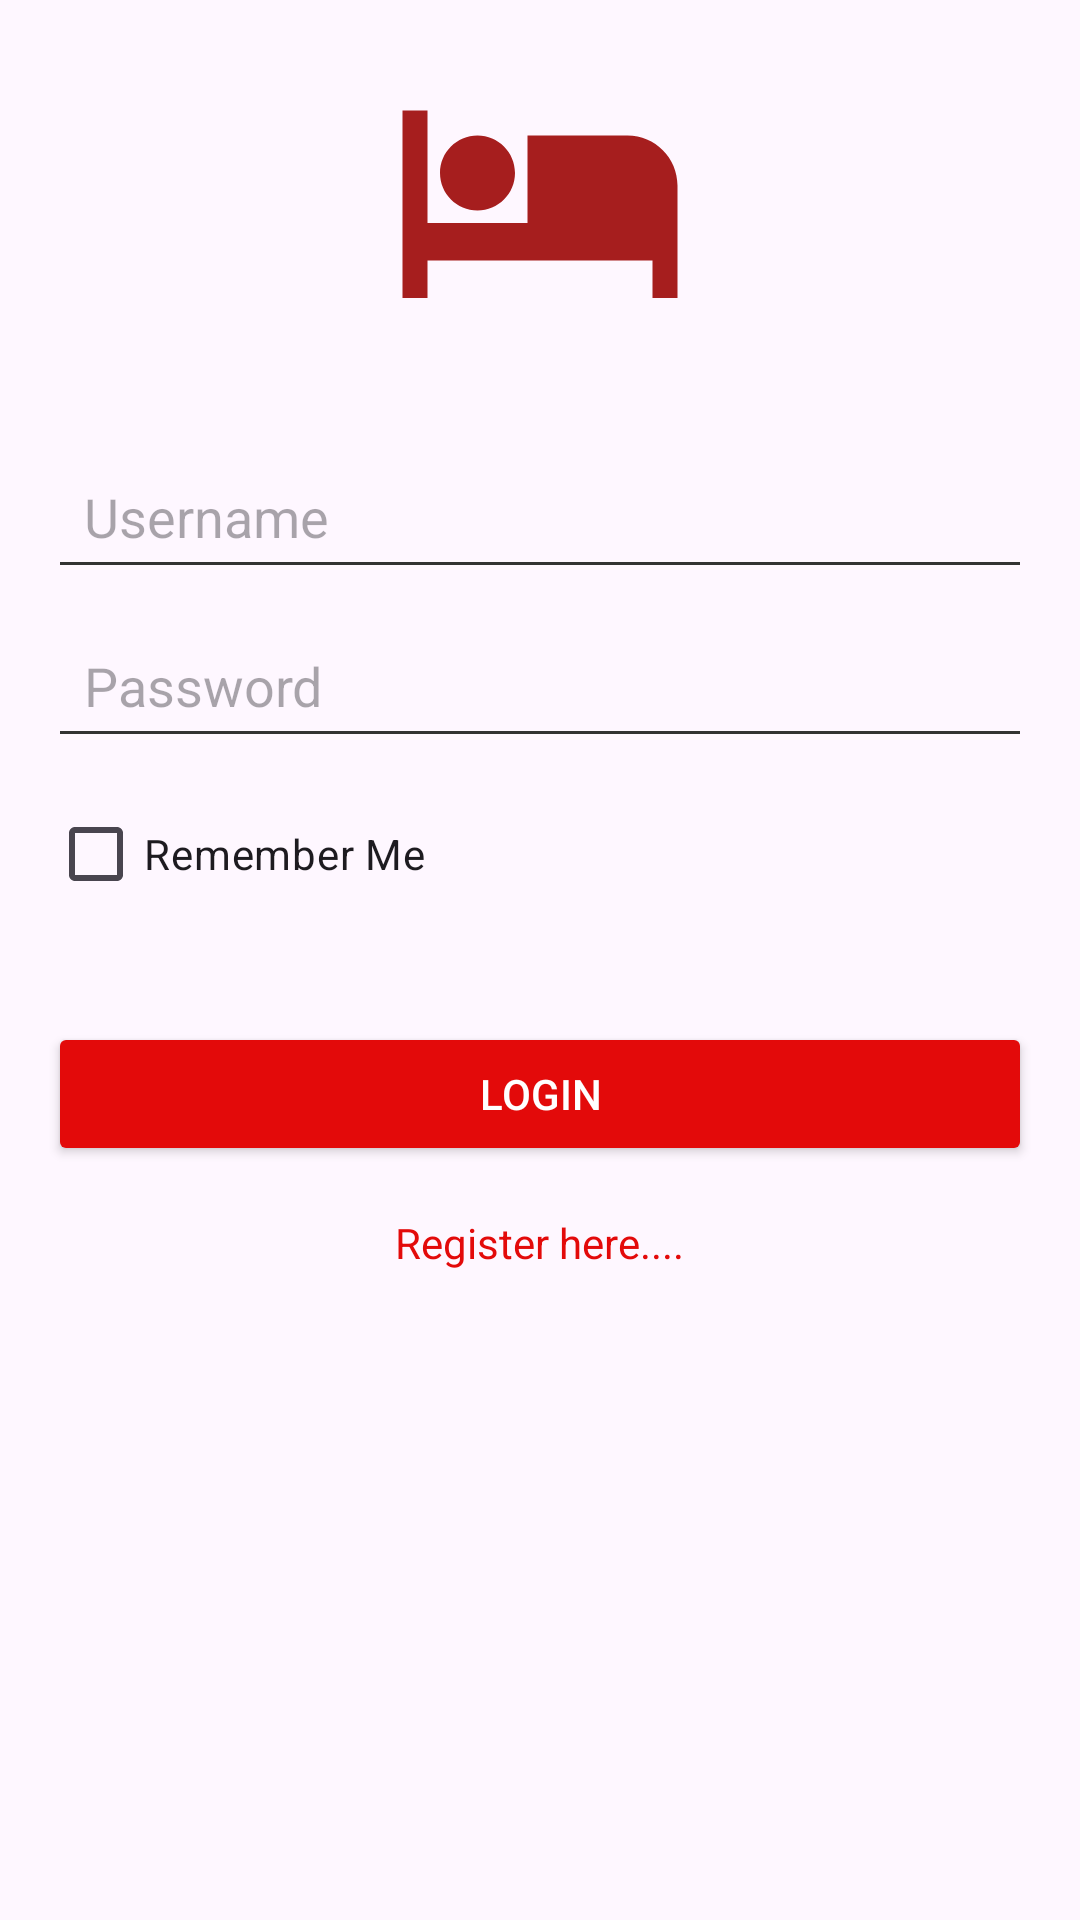

Named icons in this screenshot (1080w x 1920h) and their bounding boxes, (x1, y1, x2, y2):
hotel: (402, 110, 678, 298)
